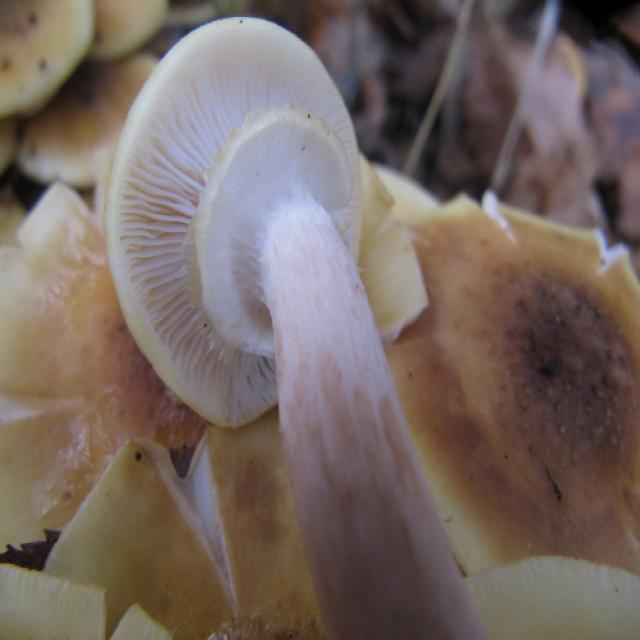Armillaria mellea: (106, 16, 499, 640)
